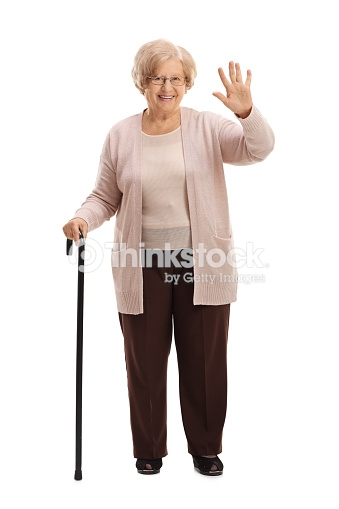open_hand: (207, 55, 265, 120)
